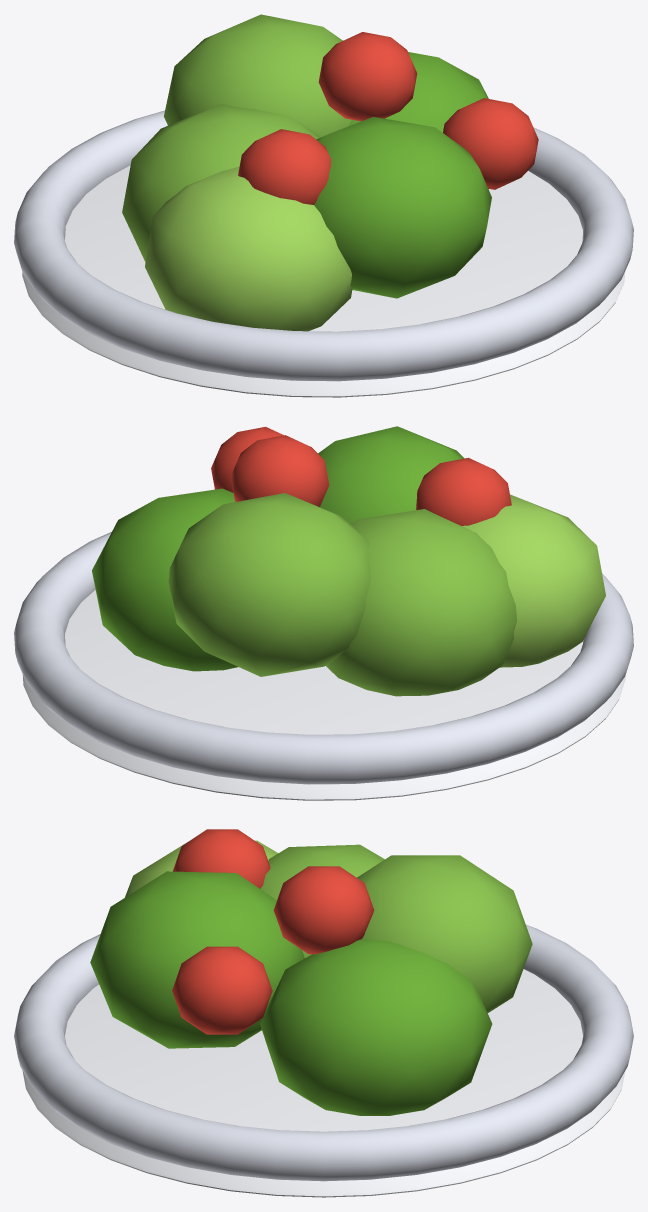
File: dish_salad.glb
3 views of the same model, one above another, from view 1: azimuth 30°, elevation 25°; view 2: azimuth 150°, elevation 25°; view 3: azimuth 270°, elevation 25° (orthographic).
Parts seen in each view (by area): view 1: rim, plate, leaf.004, leaf.003, leaf.002, leaf, tomato, tomato.002, tomato.001, leaf.001; view 2: rim, plate, leaf.002, leaf, leaf.004, leaf.001, leaf.003, tomato, tomato.001, tomato.002; view 3: rim, plate, leaf.001, leaf.003, leaf.002, tomato.002, tomato, tomato.001, leaf, leaf.004.
Part boxes in pixels (<box>): rim: <box>14,110,633,381</box>; plate: <box>22,165,625,397</box>; leaf.004: <box>145,166,352,331</box>; leaf.003: <box>314,116,491,298</box>; leaf.002: <box>164,14,351,137</box>; leaf: <box>122,104,320,261</box>; tomato: <box>318,32,417,121</box>; tomato.002: <box>443,98,538,189</box>; tomato.001: <box>238,129,331,204</box>; leaf.001: <box>349,52,488,189</box>; rim: <box>14,532,633,784</box>; plate: <box>22,590,625,800</box>; leaf.002: <box>168,493,370,676</box>; leaf: <box>326,509,516,696</box>; leaf.004: <box>462,494,605,667</box>; leaf.001: <box>92,488,237,671</box>; leaf.003: <box>318,426,464,523</box>; tomato: <box>230,435,329,506</box>; tomato.001: <box>416,457,511,525</box>; tomato.002: <box>211,426,283,492</box>; rim: <box>14,924,633,1181</box>; plate: <box>22,969,625,1197</box>; leaf.001: <box>260,939,492,1115</box>; leaf.003: <box>90,871,304,1048</box>; leaf.002: <box>357,855,532,1012</box>; tomato.002: <box>172,946,272,1034</box>; tomato: <box>273,866,374,954</box>; tomato.001: <box>173,829,270,888</box>; leaf: <box>260,844,384,957</box>; leaf.004: <box>125,840,278,897</box>.
Size of the model in its own units: 0.61 by 0.2421 by 0.61.
